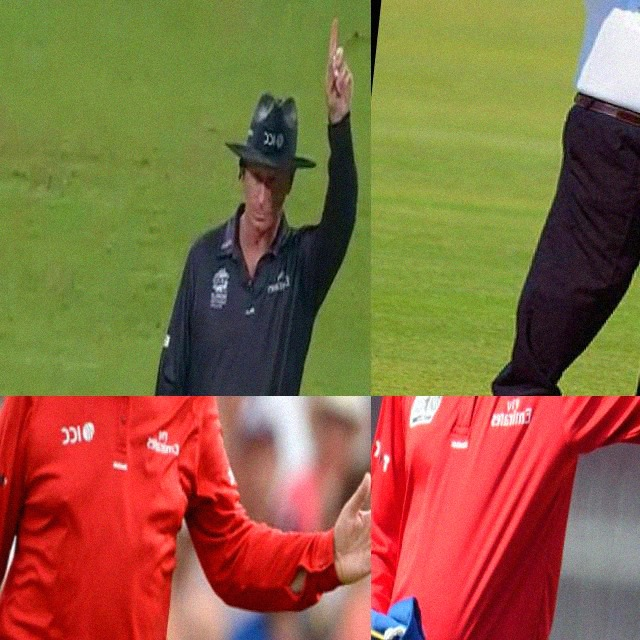No_Ball: (0, 396, 371, 640), (371, 396, 640, 640)
Out: (147, 0, 371, 396)
Six: (413, 0, 640, 396)
